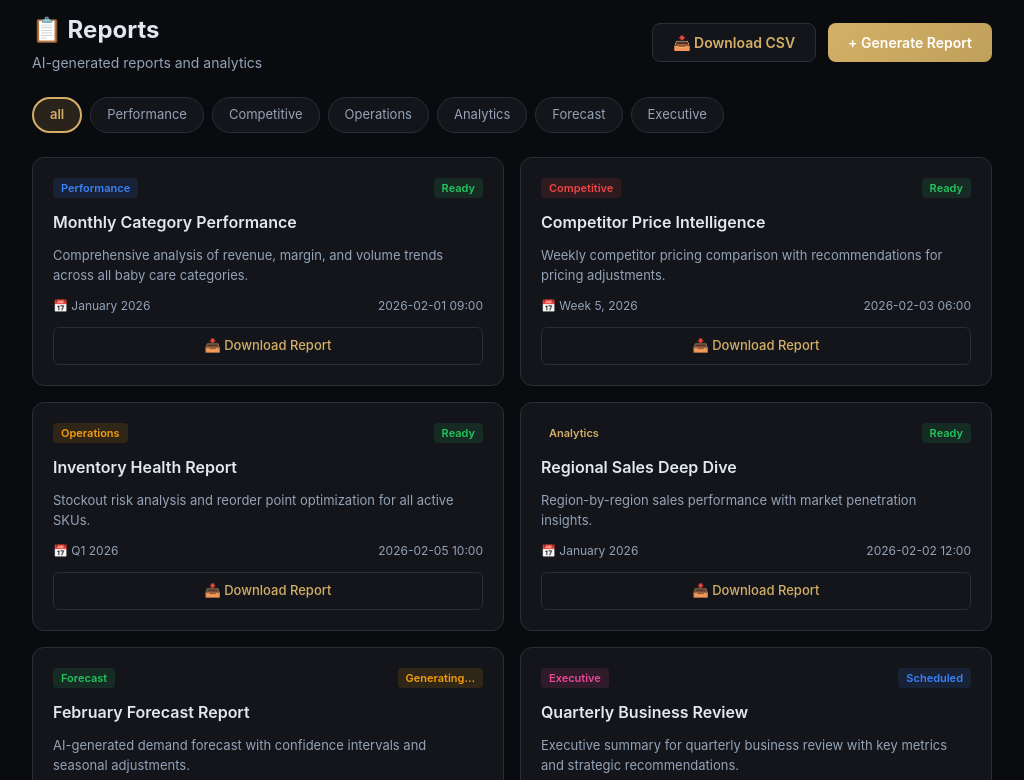
Test: Reports page › shows all reports when "all" filter is selected
Click the button "Performance" at (147, 115), box [90,97,204,132]
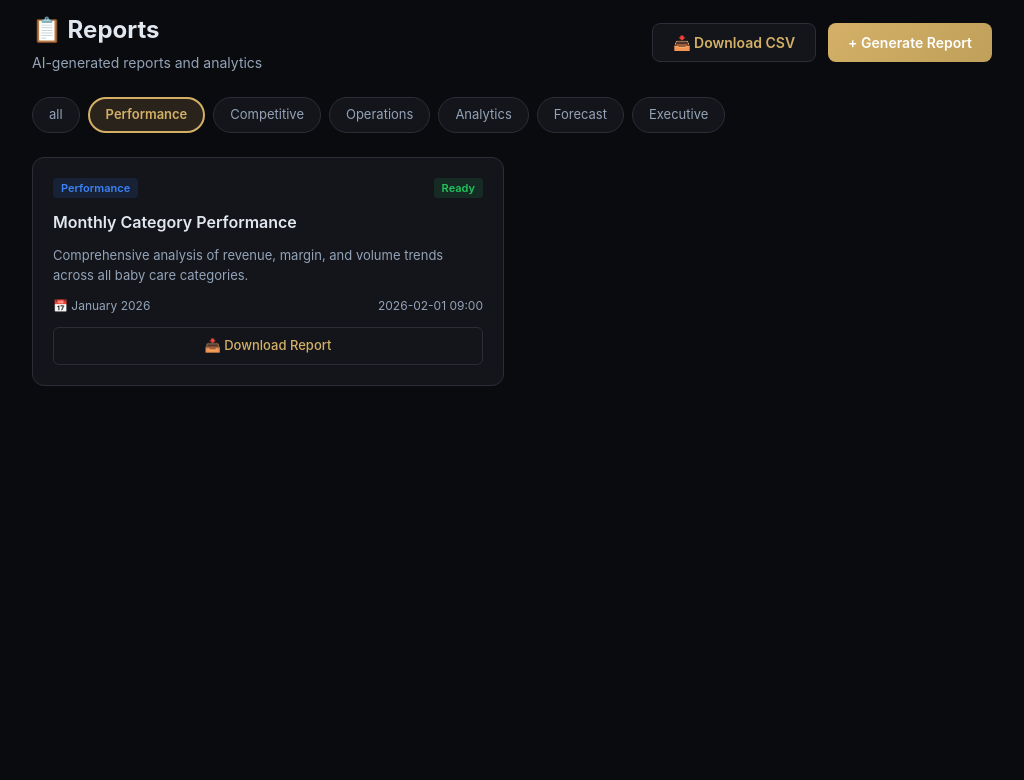
Click the button "all" at (56, 115), box [32,97,80,132]
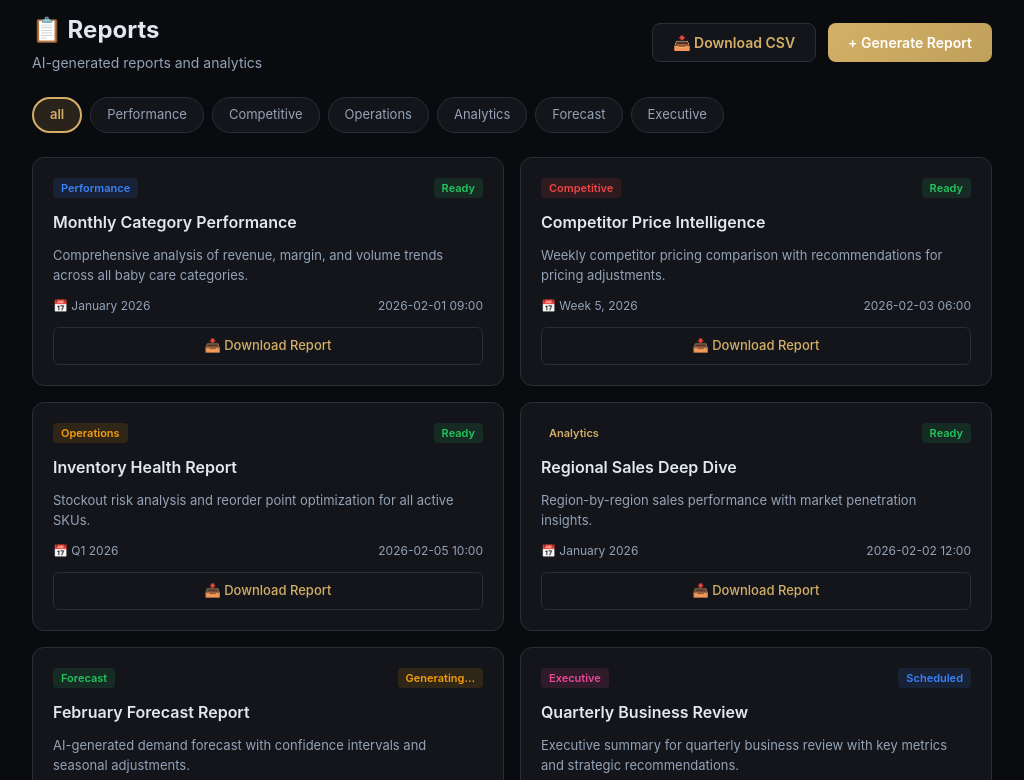
Expected: the heading "Monthly Category Performance" is shown, [53,212,297,232]
Now the heading "Competitor Price Intelligence" is shown, box [541,212,765,232]
